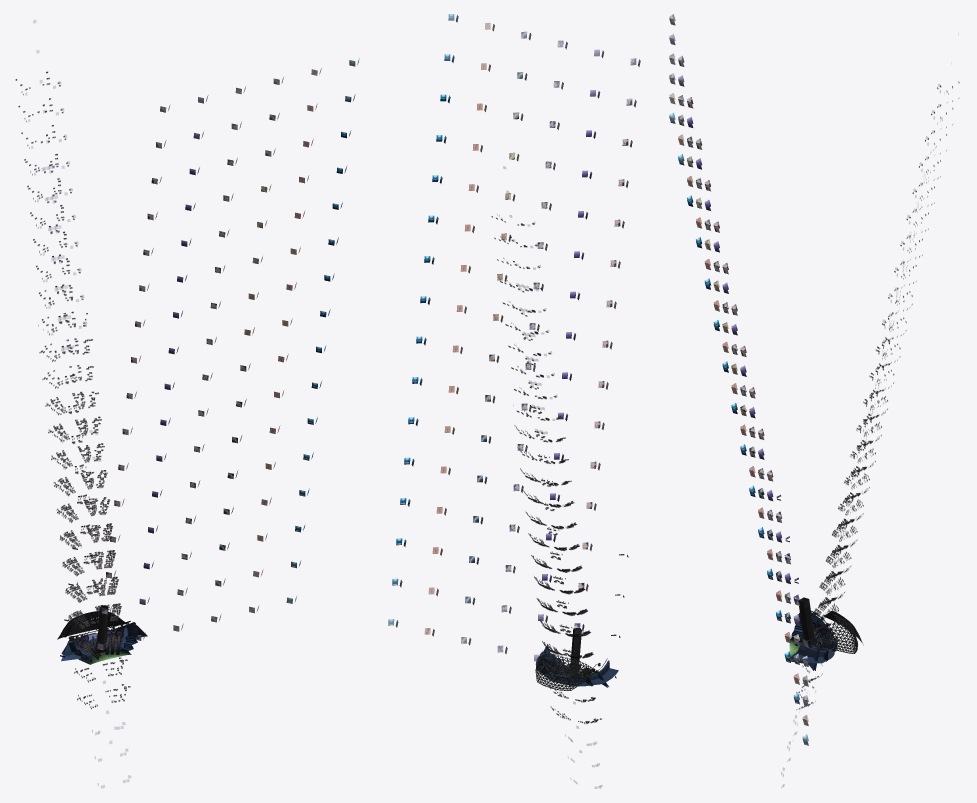
Rendered from ShiningColosseum.glb.
The picture shows the model from 3 angles, left to right: view 1: azimuth 30°, elevation 25°; view 2: azimuth 150°, elevation 25°; view 3: azimuth 270°, elevation 25°; orthographic projection. The views are drawn at different scales.
Parts seen in each view (by area): view 1: Empty, 0094, 0983, 0982, 0984, 0985, 0980, 0981; view 2: Empty, 0982, 0985, 0984, 0983, 0980, 0981, 0094; view 3: Empty, 0094, 0982, 0985, 0983, 0984, 0981, 0980.
Boxes of the visible parts, bbox=[...] form: Empty: bbox=[57, 605, 131, 664]; 0094: bbox=[61, 621, 147, 661]; 0983: bbox=[211, 77, 283, 622]; 0982: bbox=[173, 86, 245, 631]; 0984: bbox=[249, 68, 321, 613]; 0985: bbox=[286, 58, 359, 603]; 0980: bbox=[97, 104, 170, 649]; 0981: bbox=[136, 95, 208, 640]; Empty: bbox=[535, 628, 600, 690]; 0982: bbox=[497, 40, 567, 653]; 0985: bbox=[388, 14, 458, 627]; 0984: bbox=[424, 23, 494, 636]; 0983: bbox=[461, 31, 531, 645]; 0980: bbox=[574, 58, 640, 631]; 0981: bbox=[534, 49, 604, 661]; 0094: bbox=[535, 644, 618, 687]; Empty: bbox=[789, 597, 863, 663]; 0094: bbox=[790, 610, 834, 670]; 0982: bbox=[669, 53, 808, 686]; 0985: bbox=[669, 112, 808, 745]; 0983: bbox=[669, 73, 808, 706]; 0984: bbox=[669, 93, 808, 725]; 0981: bbox=[669, 34, 808, 666]; 0980: bbox=[669, 14, 808, 647].
Size of the model in its own units: 7908 by 22879 by 7956.
445 materials, 445 textured.
